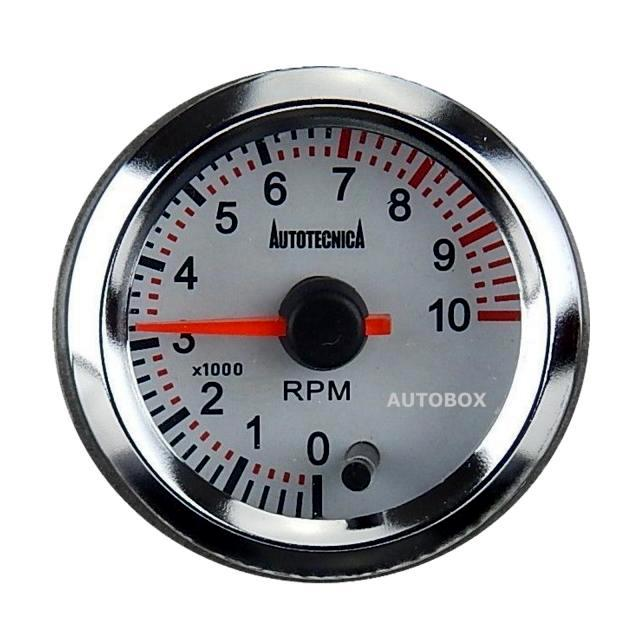Needle_Tip: (117, 304, 203, 353)
Needle_base: (277, 272, 372, 378)
max_value: (416, 286, 501, 340)
min_value: (291, 413, 354, 475)
